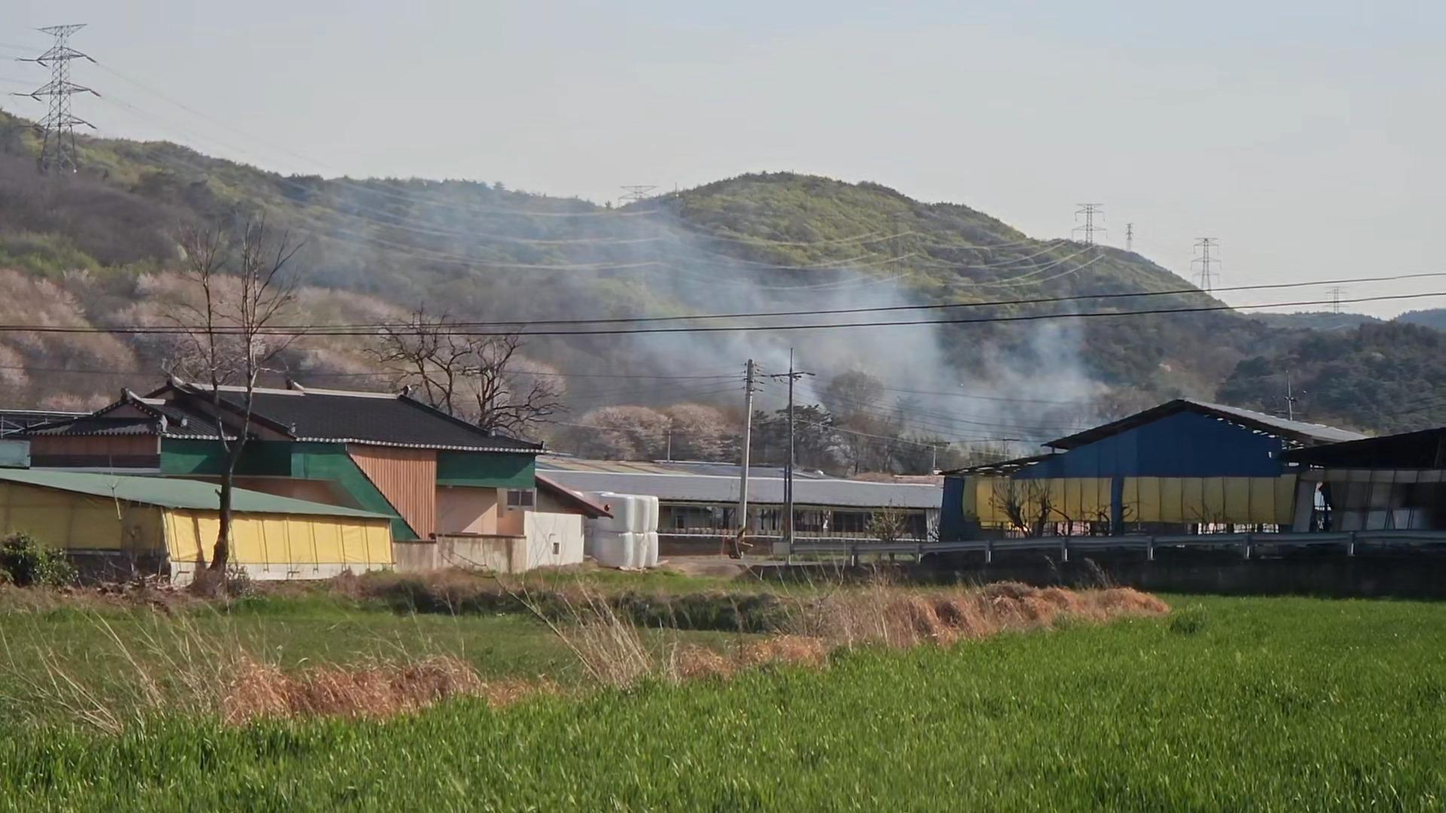smoke: (572, 199, 1108, 462)
